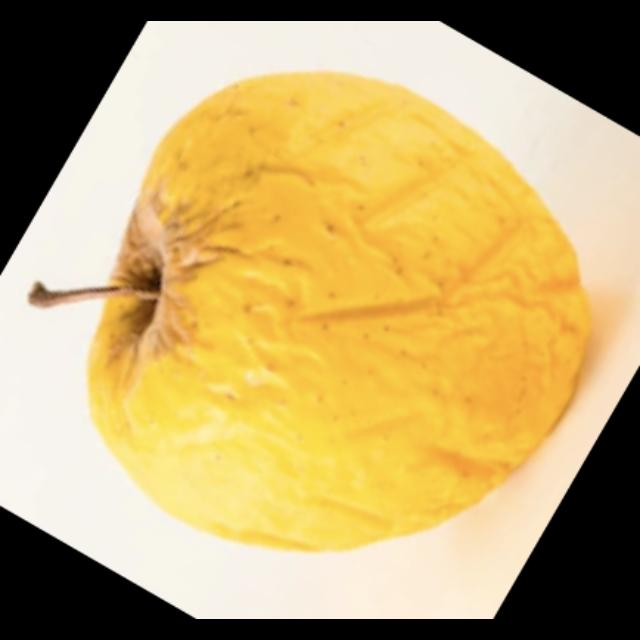Apel Tidak Segar: (81, 64, 597, 562)
